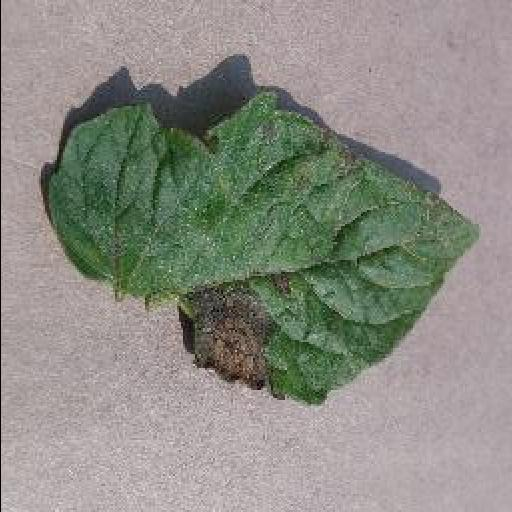disease_tomato: (41, 92, 479, 410)
